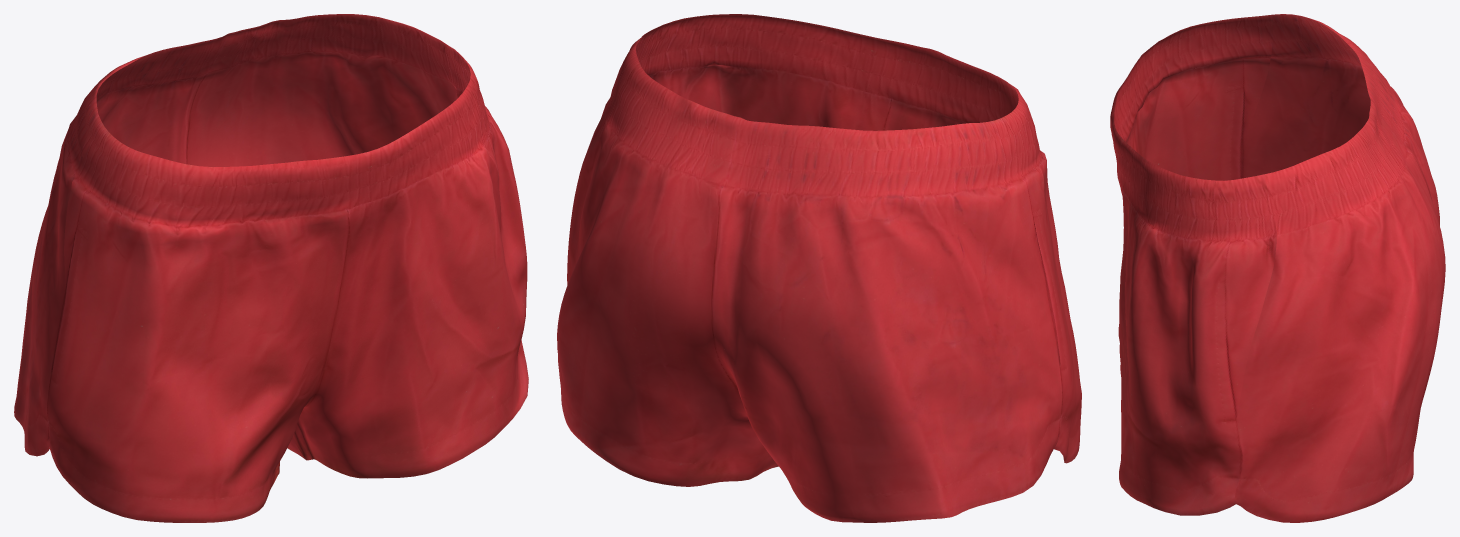
File: Red_Leather_Short.glb
3 renders of one model, left to right at view 1: azimuth 30°, elevation 25°; view 2: azimuth 150°, elevation 25°; view 3: azimuth 270°, elevation 25°, orthographic. The views are drawn at different scales.
Visible parts, largest first — view 1: Group16833, ZBrush_defualt_group; view 2: ZBrush_defualt_group, Group16833; view 3: ZBrush_defualt_group, Group16833.
Boxes of the visible parts, x1,y1,x2,y2 form: Group16833: (48,39,528,522); ZBrush_defualt_group: (14,14,457,459); ZBrush_defualt_group: (557,39,1062,522); Group16833: (636,14,1081,463); ZBrush_defualt_group: (1234,14,1445,522); Group16833: (1110,14,1276,515).
Size of the model in its own units: 0.3955 by 0.3109 by 0.2587.
2 materials, 2 textured.
